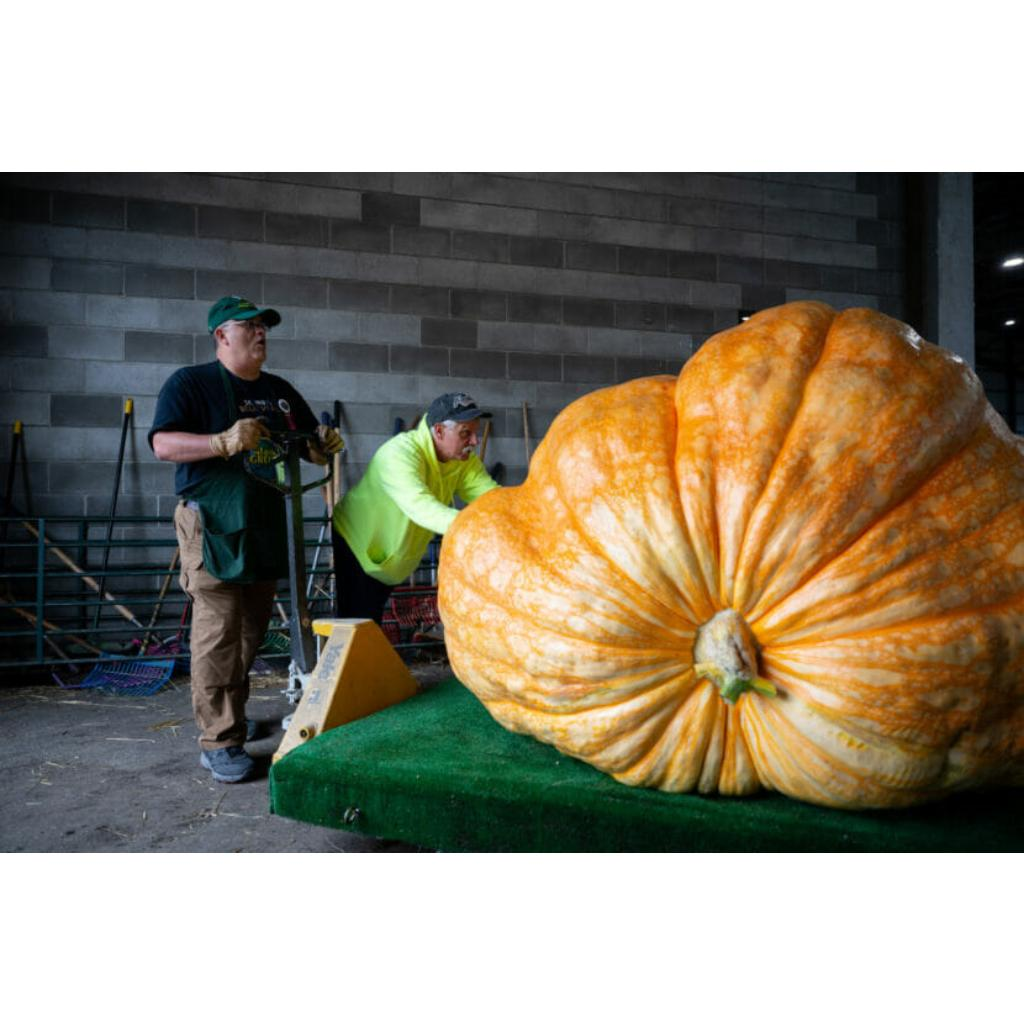pumpkin: (440, 301, 1024, 808)
